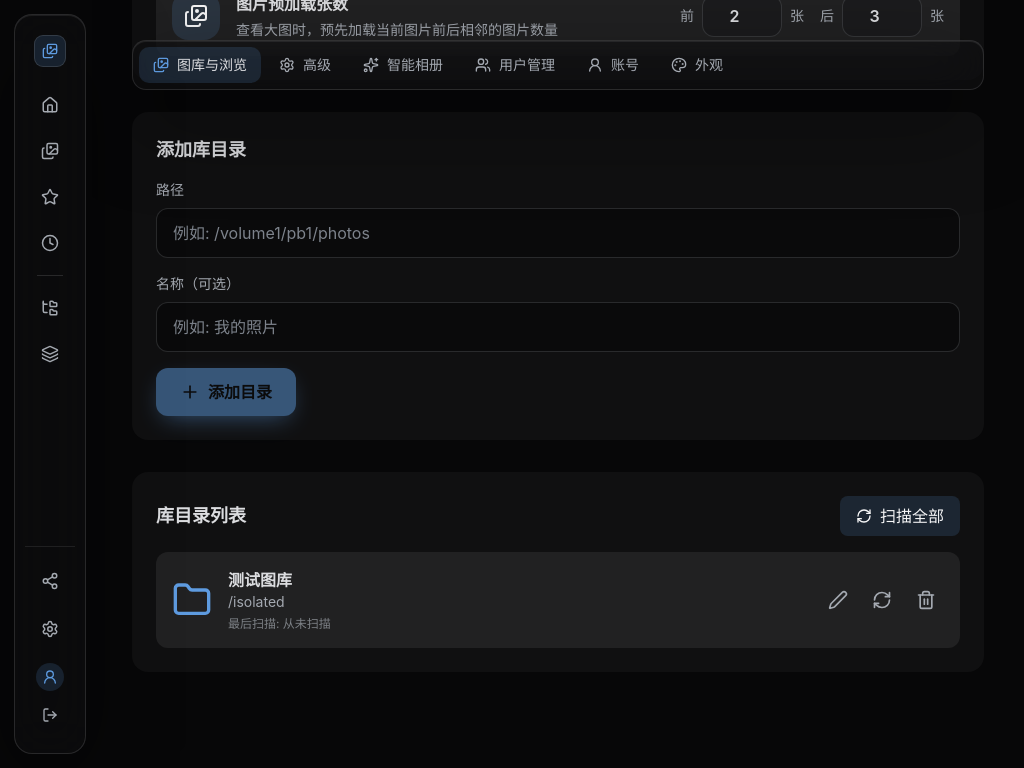
Test: 实际 Settings 页面展示部分扫描失败并触发健康相册刷新
(page scrolled)
Step 1. Click the button named "扫描此目录" → [882, 600], box [864, 582, 900, 618]
(page scrolled)
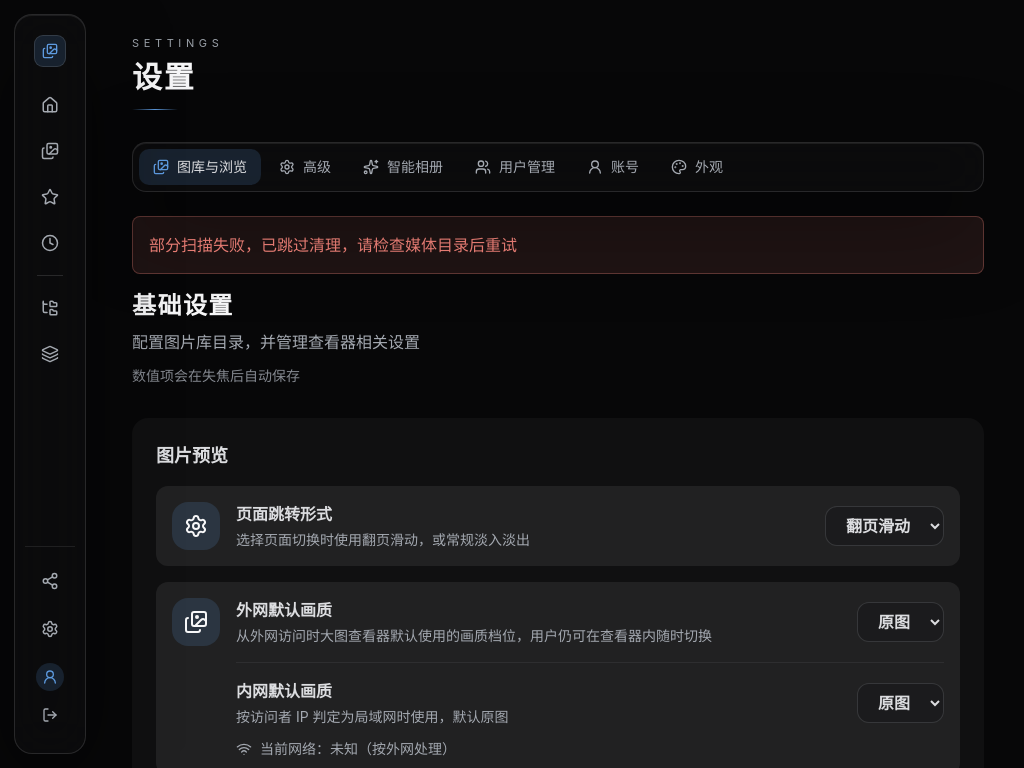
Now the message "部分扫描失败，已跳过清理，请检查媒体目录后重试" is shown, box [132, 216, 984, 274]
